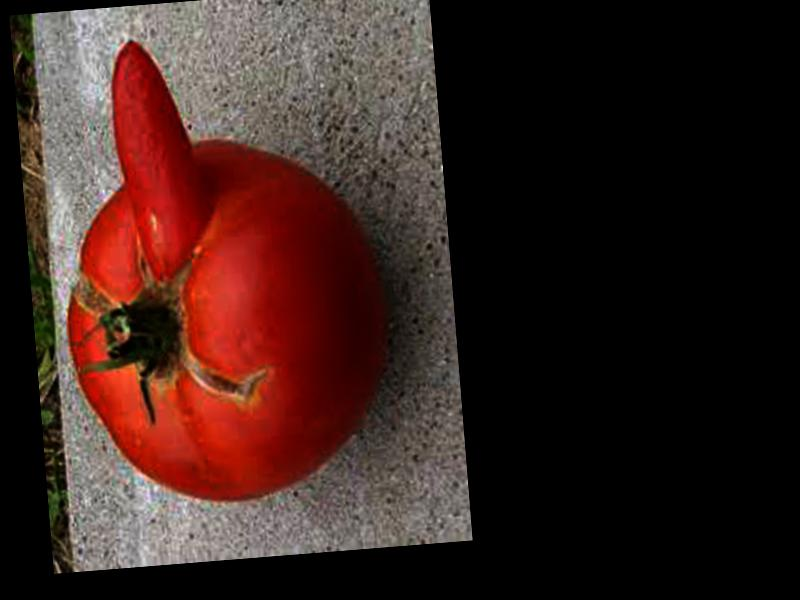Tomato: (53, 128, 389, 516)
